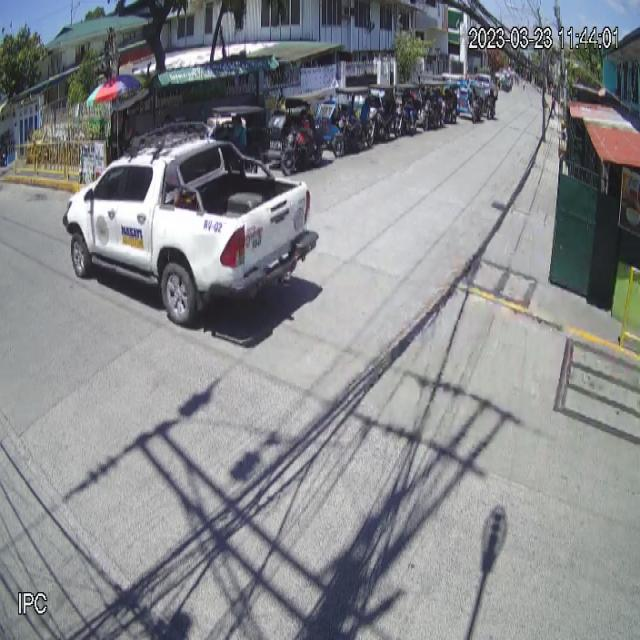Car: (60, 137, 317, 326)
